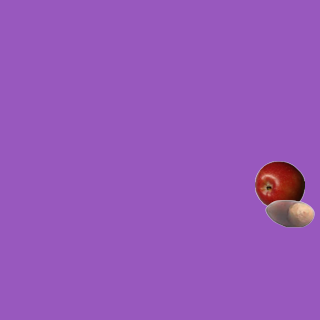Apple Braeburn: (254, 160, 304, 210)
Hazelnut: (264, 188, 314, 238)
